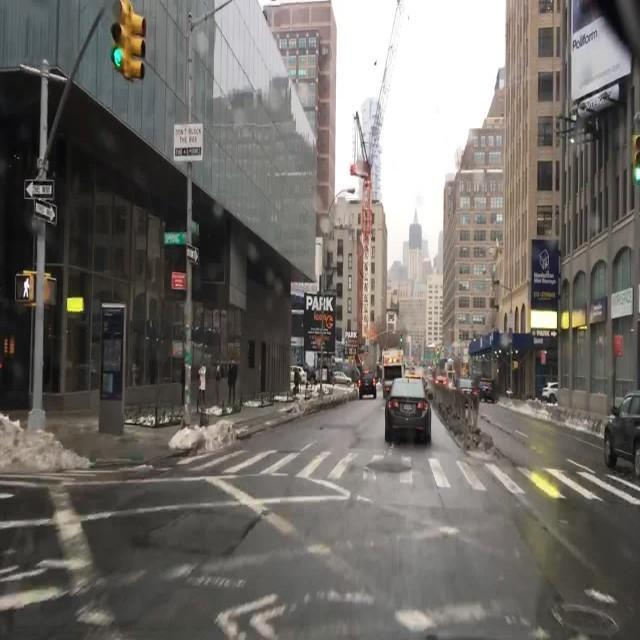normal: (603, 391, 640, 478), (386, 376, 433, 444), (332, 371, 359, 400), (477, 378, 497, 403), (542, 379, 562, 399)
